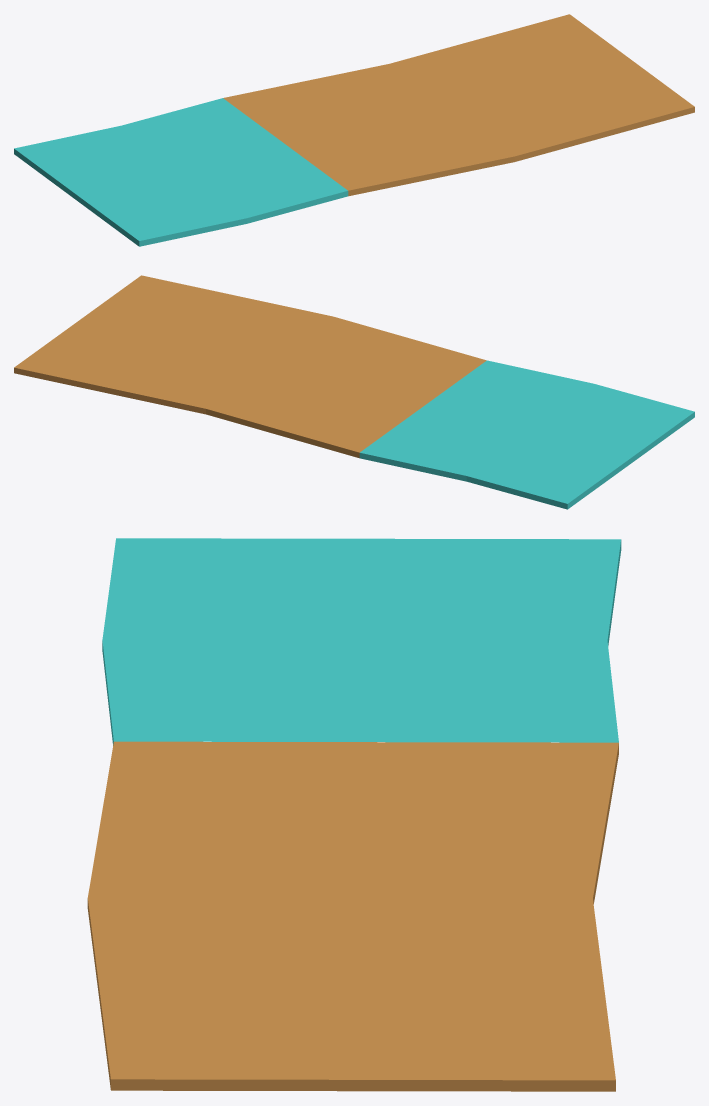
File: beach-towel1.glb
The picture shows the model from 3 angles, top to bottom: view 1: azimuth 30°, elevation 25°; view 2: azimuth 150°, elevation 25°; view 3: azimuth 270°, elevation 25°; orthographic projection. The views are drawn at different scales.
Parts seen in each view (by area): view 1: Towel2-material, Towel1-material; view 2: Towel2-material, Towel1-material; view 3: Towel2-material, Towel1-material.
Boxes of the visible parts, x1,y1,x2,y2 form: Towel2-material: [223, 14, 694, 196]; Towel1-material: [14, 98, 348, 246]; Towel2-material: [14, 275, 486, 458]; Towel1-material: [359, 360, 694, 509]; Towel2-material: [87, 741, 618, 1091]; Towel1-material: [102, 538, 621, 745].
Bounding box in the file's own units: 13.68 × 0.1334 × 5.69.
